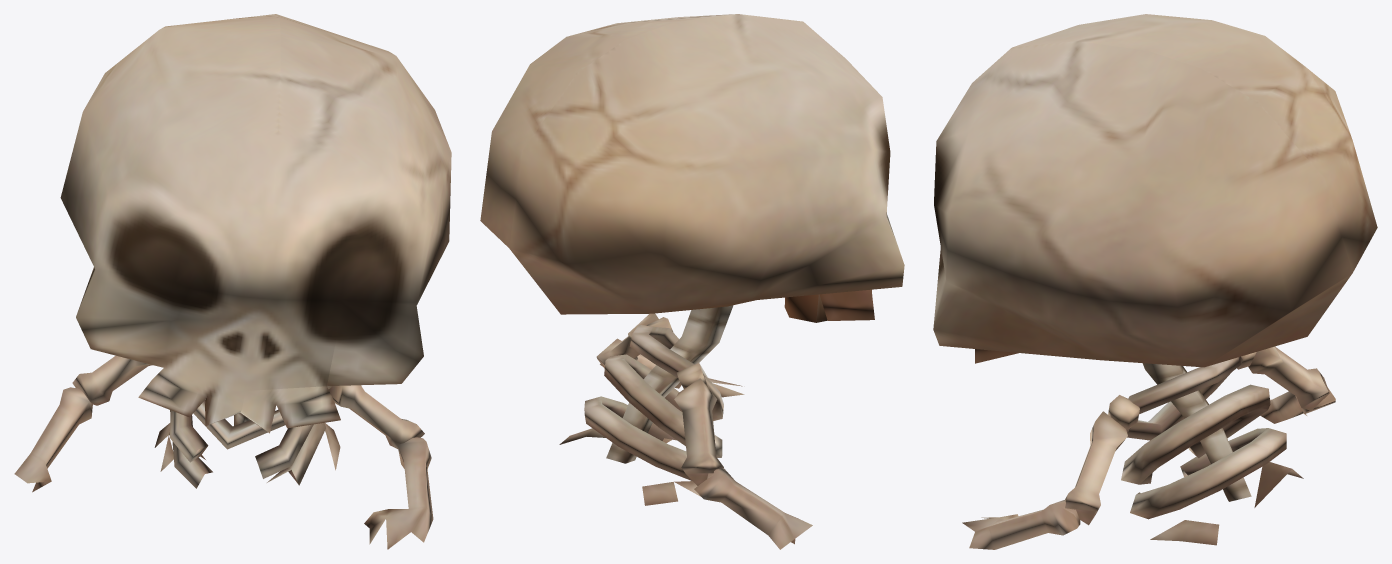
Rendered from crate-steel-lod0.glb.
3 views of the same model, side by side, from view 1: azimuth 30°, elevation 25°; view 2: azimuth 150°, elevation 25°; view 3: azimuth 270°, elevation 25° (orthographic). The views are drawn at different scales.
Visible parts, largest first — view 1: skeleton-wind-model; view 2: skeleton-wind-model; view 3: skeleton-wind-model.
Part boxes in pixels (x1,y1,x2,y2): skeleton-wind-model: (14, 14, 451, 549); skeleton-wind-model: (480, 14, 904, 549); skeleton-wind-model: (933, 14, 1377, 549).
Bounding box in the file's own units: 2.44 × 2.75 × 2.35.
1 material, 1 textured.
